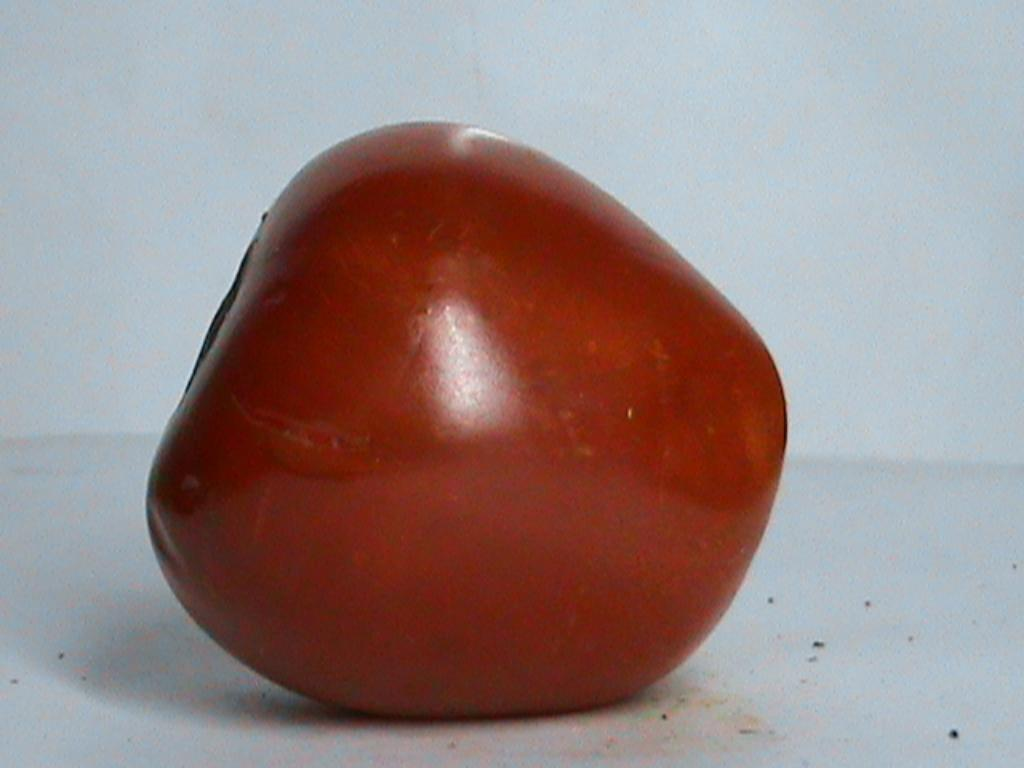surface_damage: (243, 406, 339, 454)
tomato: (147, 123, 784, 712)
